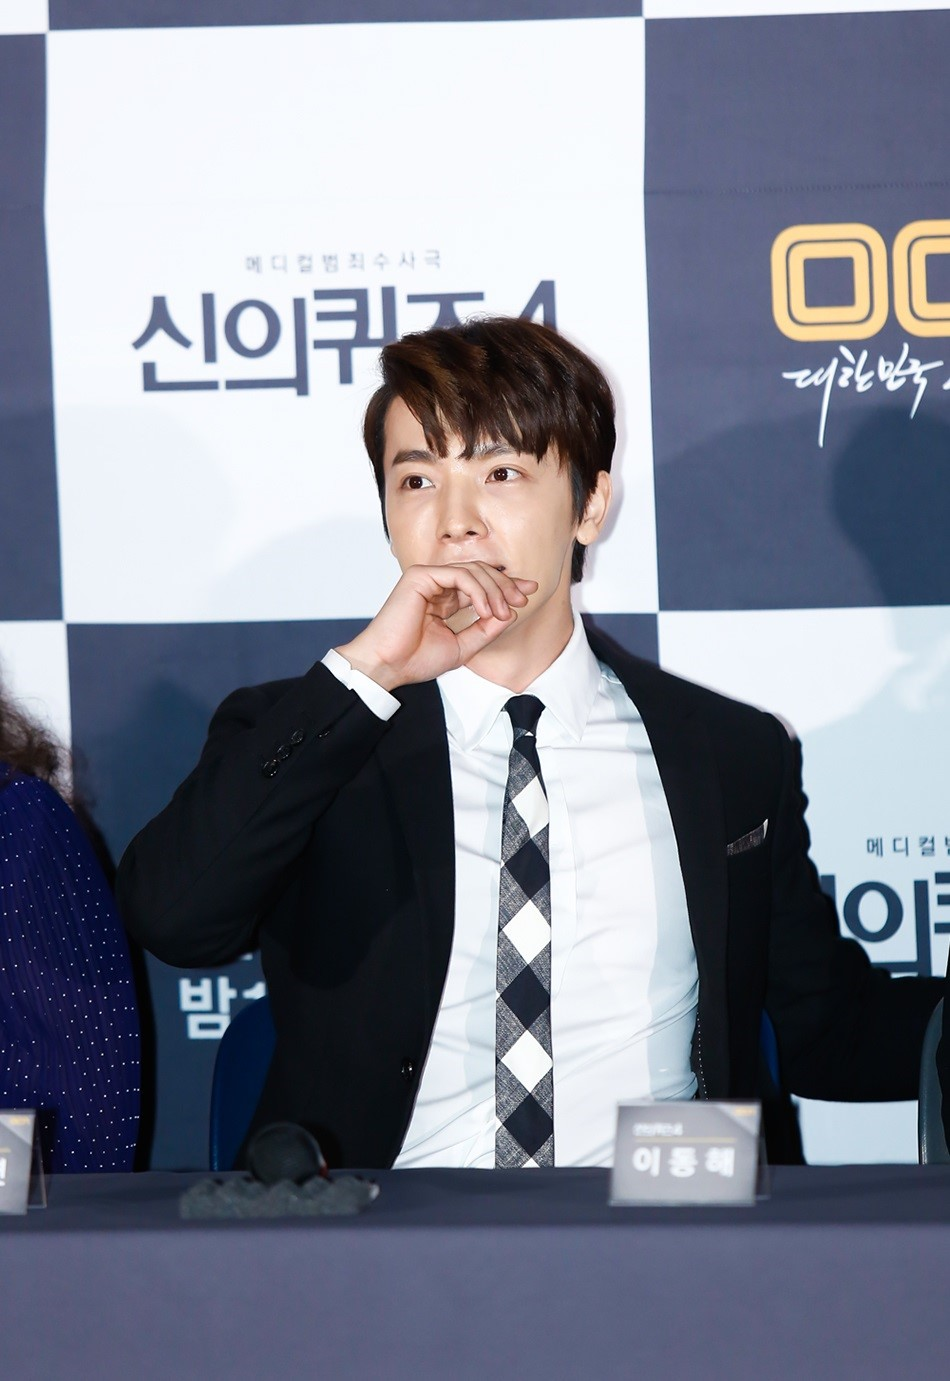face: (385, 374, 567, 660)
